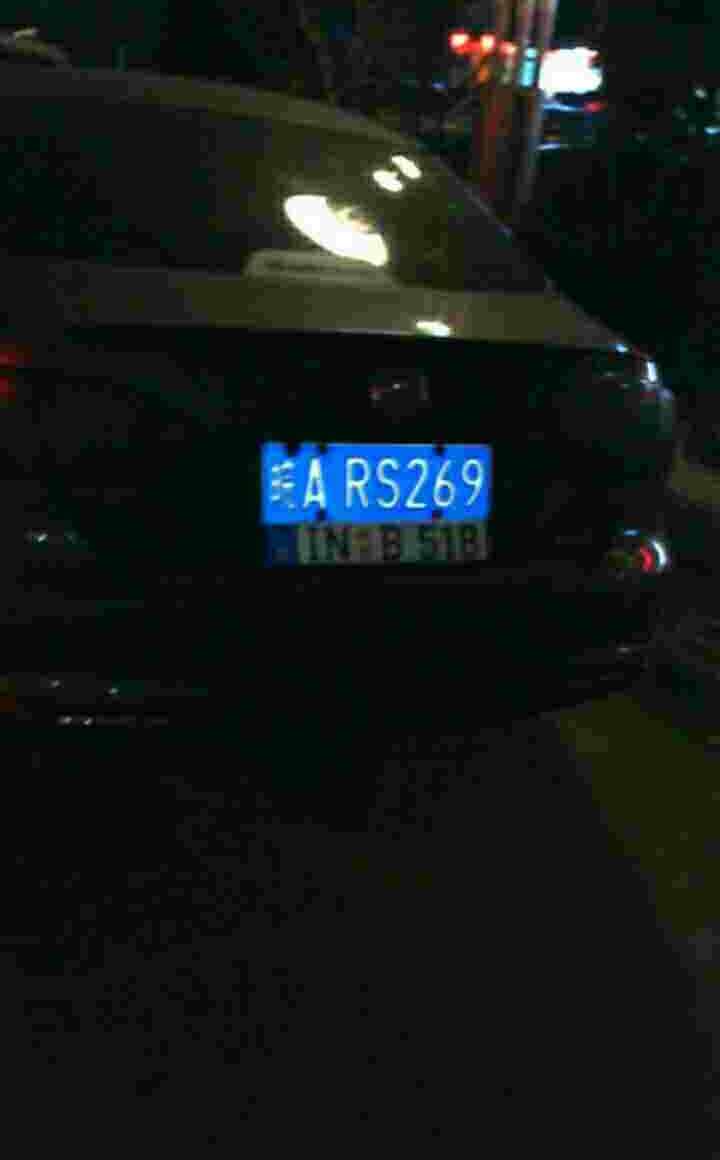license_plate: (269, 436, 493, 530)
